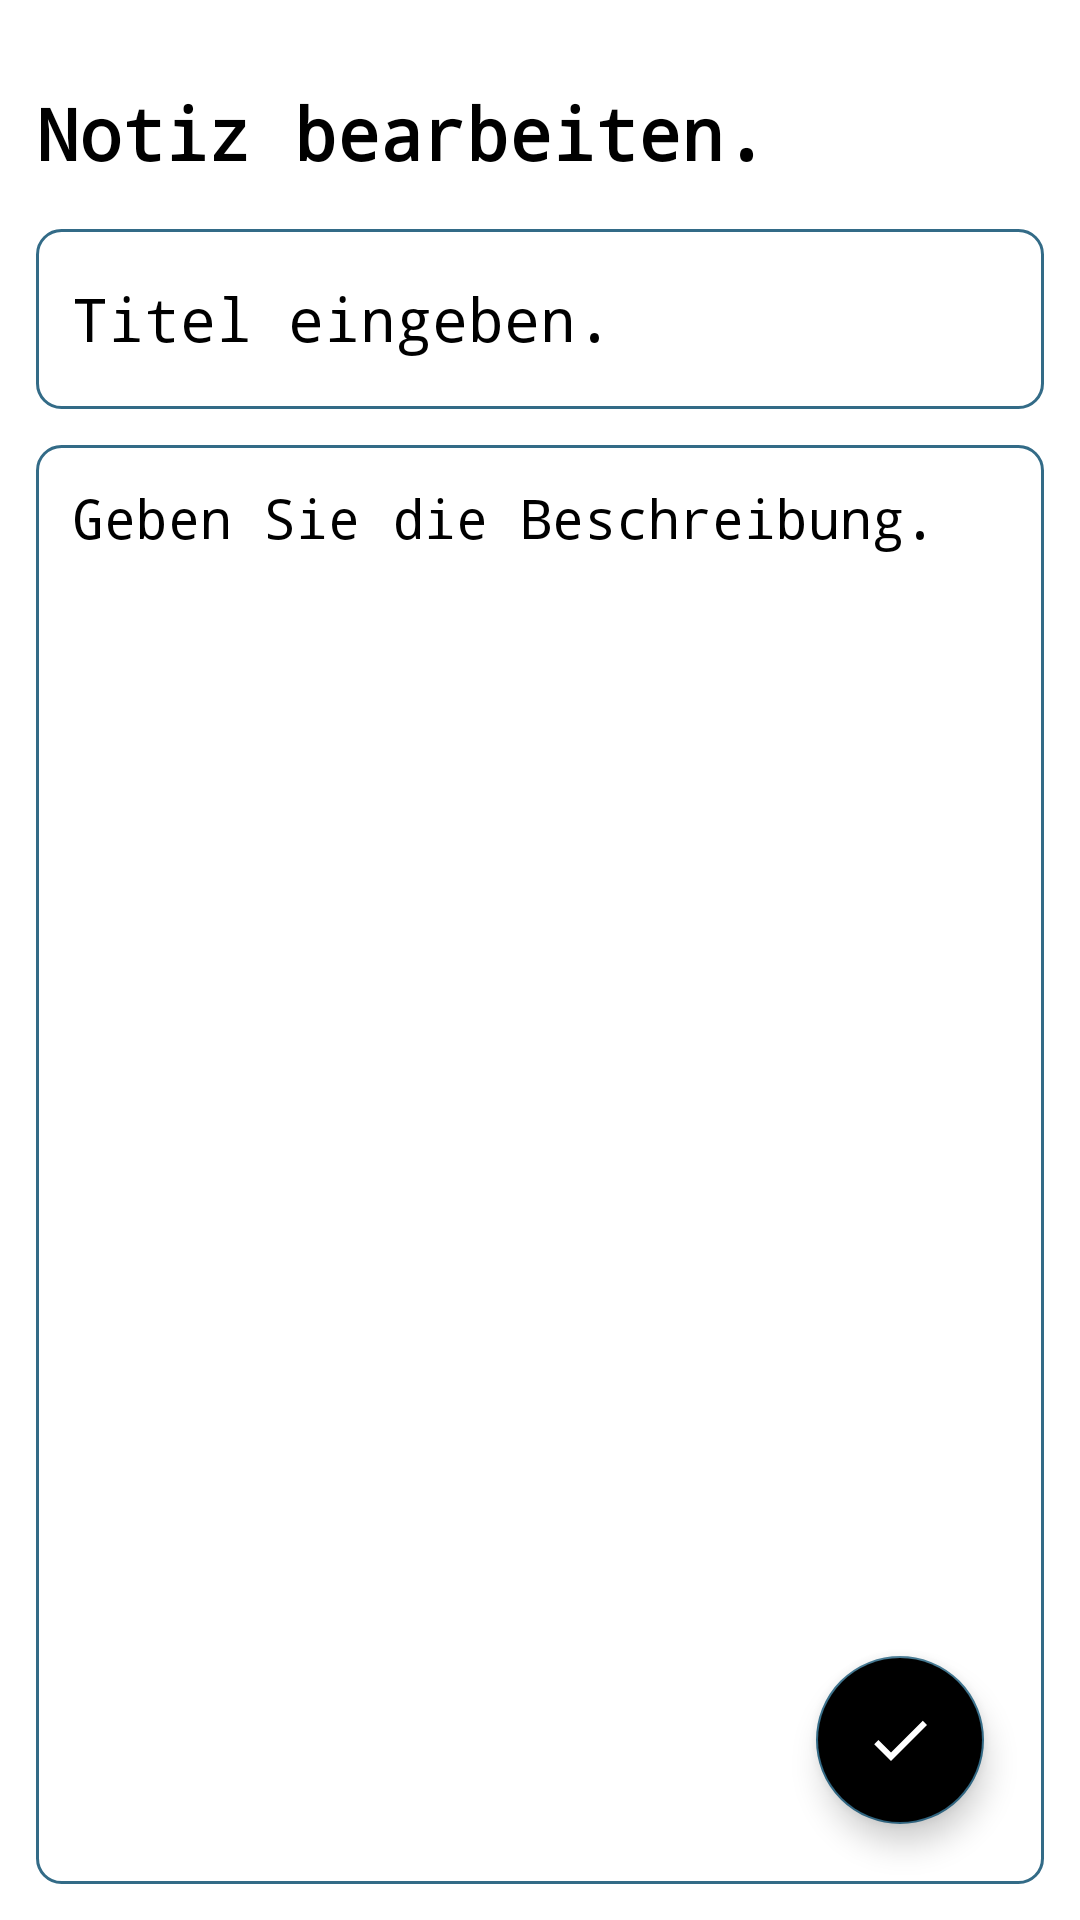

Screen size 1080×1920. Icon name, then its box in pixels as [x1, y1, x2, y2]:
done: [816, 1656, 984, 1824]
